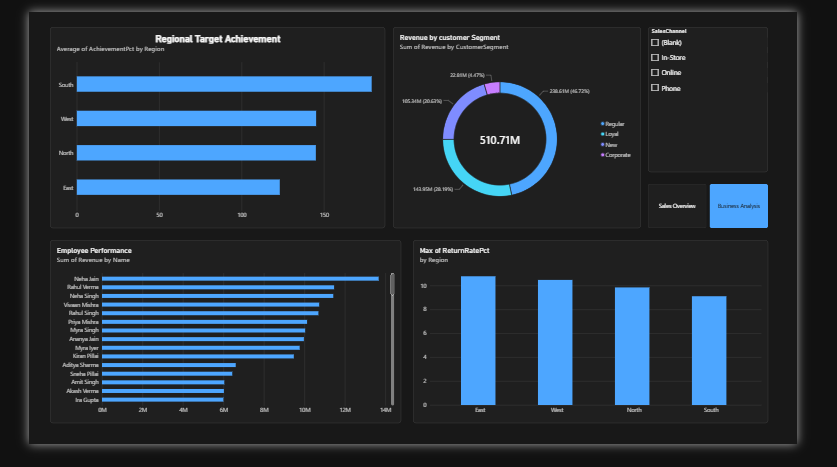

The dashboard page shown, as its layout file describes it:
{"tool":"powerbi","page":{"name":"Business Analysis","canvas":[1920,1080],"ordinal":1},"visuals":[{"type":"clusteredBarChart","title":"Regional Target Achievement","fields":{"Category":["q19_target_performance.Region"],"Y":["Avg(q19_target_performance.AchievementPct)"]},"box":[52.5,37.5,837.5,502.5],"z":0},{"type":"slicer","fields":{"Values":["q16_sales_channels.SalesChannel"]},"box":[1547.5,37.5,300,362.5],"z":2000},{"type":"donutChart","title":"Revenue by customer Segment","fields":{"Category":["q13_customer_segments.CustomerSegment"],"Y":["Sum(q13_customer_segments.Revenue)"]},"box":[910,37.5,620,502.5],"z":3000},{"type":"clusteredColumnChart","fields":{"Category":["q18_return_rate_region.Region"],"Y":["Max(q18_return_rate_region.ReturnRatePct)"]},"box":[960,570,887.5,457.5],"z":4000},{"type":"clusteredBarChart","title":"Employee Performance","fields":{"Category":["q8_employee_performance.Name"],"Y":["Sum(q8_employee_performance.Revenue)"]},"box":[52.5,570,877.5,457.5],"z":5000},{"type":"pageNavigator","box":[1547.5,430,300,110],"z":5001}]}

Visuals, with their boxes in screenshot pixels (x1, y1, x2, y2), scaled from the page's 1920x1080 canvas onto the 837x467 screenshot:
"Regional Target Achievement" clusteredBarChart: box(23, 16, 388, 234)
slicer - q16_sales_channels.SalesChannel: box(675, 16, 805, 173)
"Revenue by customer Segment" donutChart: box(397, 16, 667, 234)
clusteredColumnChart - q18_return_rate_region.Region x Max(q18_return_rate_region.ReturnRatePct): box(418, 246, 805, 444)
"Employee Performance" clusteredBarChart: box(23, 246, 405, 444)
pageNavigator: box(675, 186, 805, 234)
